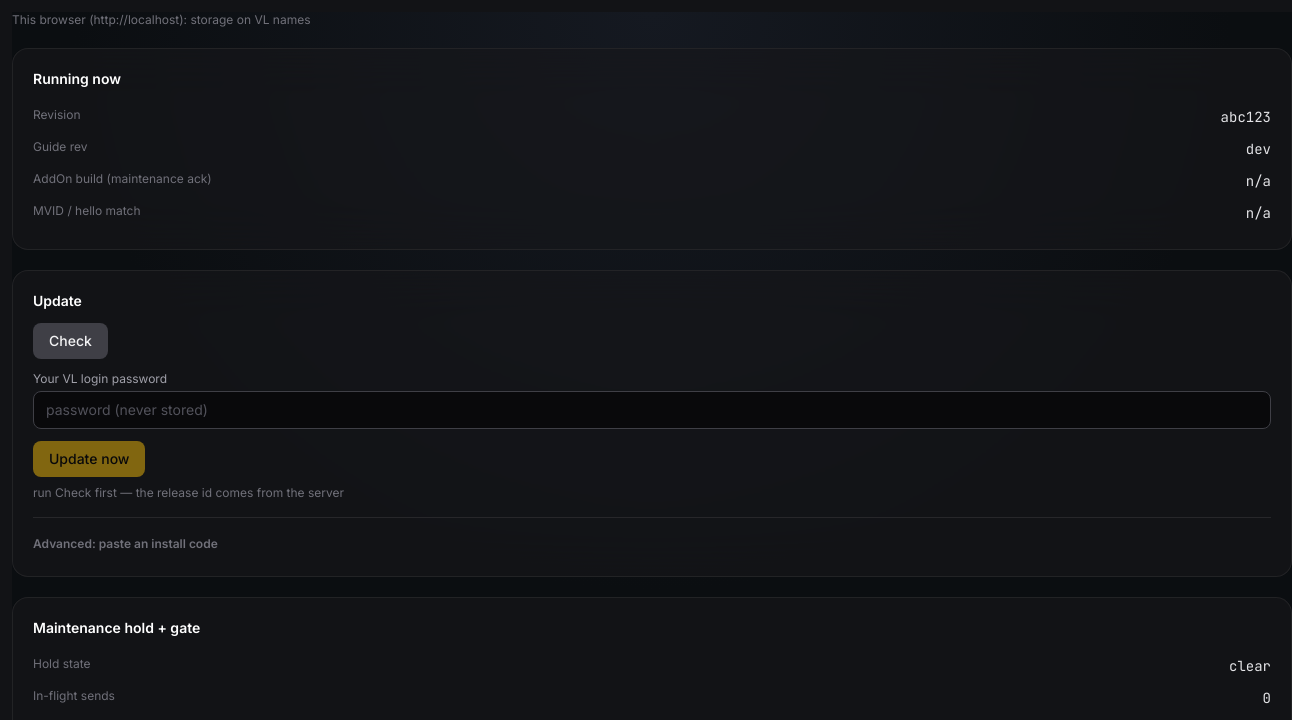
UpdatesPage › the paste box stays hidden until the advanced toggle opens it
Expected: the button "Update now" is shown, [33,441,146,477]
Click the button with test id "advanced-toggle" at (125, 544), box [33,536,218,552]
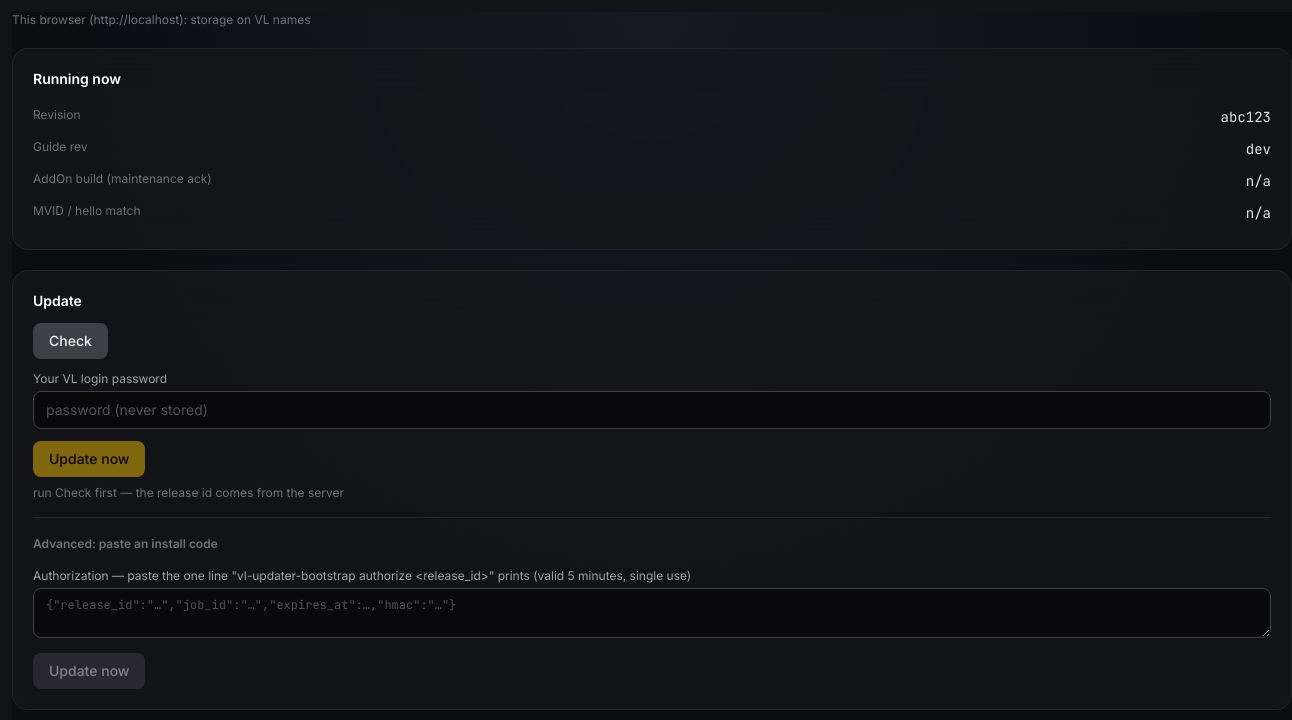
Expected: the text box with test id "authz-paste" is shown, [33,588,1271,638]
